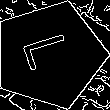L_E: (19, 33, 80, 77)
